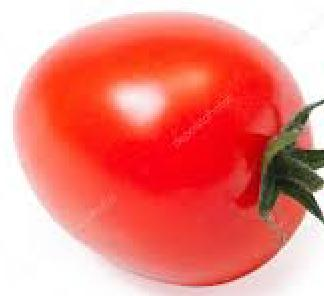tomato: (11, 14, 312, 283)
